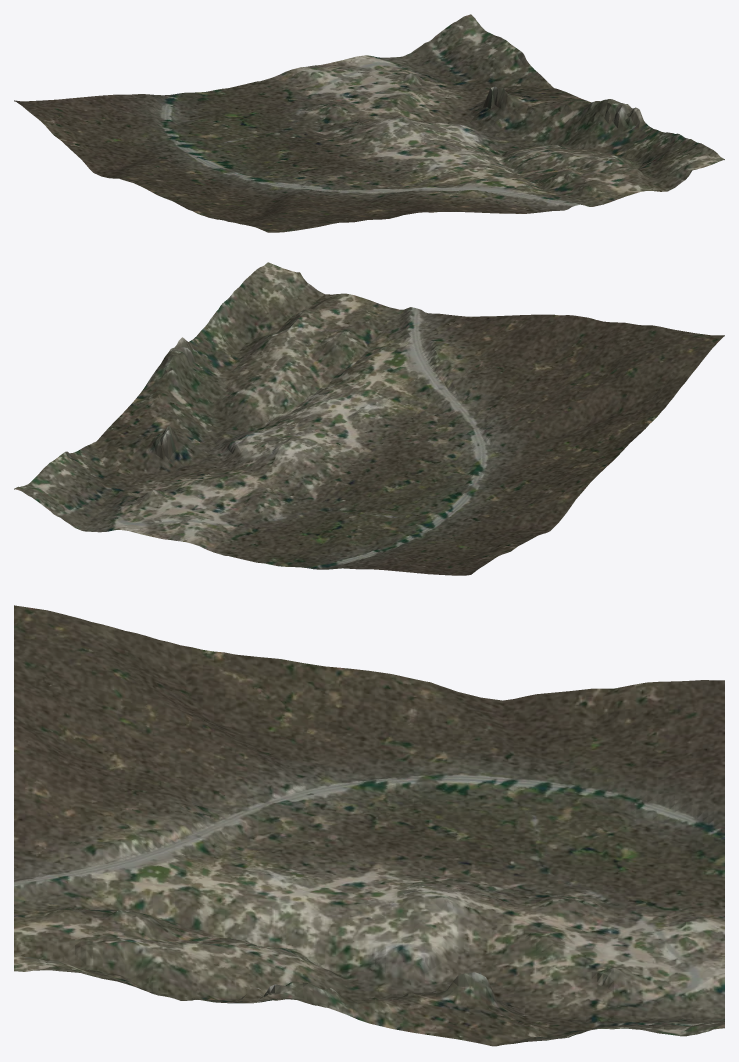
3 views of the same model, one above another, from view 1: azimuth 30°, elevation 25°; view 2: azimuth 150°, elevation 25°; view 3: azimuth 270°, elevation 25° (orthographic). The views are drawn at different scales.
Bounding box in the file's own units: 500 × 110 × 481.
Materials: 1 (1 with a texture image).
